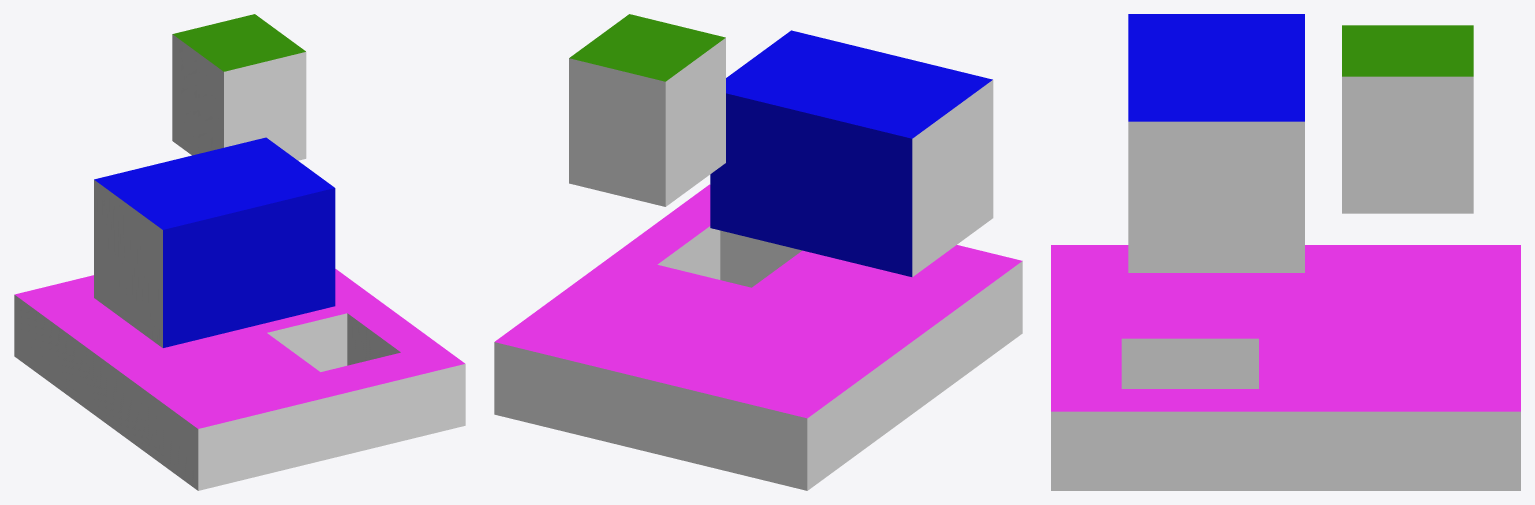
The picture shows the model from 3 angles, left to right: view 1: azimuth 30°, elevation 25°; view 2: azimuth 150°, elevation 25°; view 3: azimuth 270°, elevation 25°; orthographic projection. The views are drawn at different scales.
Visible parts, largest first — view 1: SketchUp (×7); view 2: SketchUp (×7); view 3: SketchUp (×7).
Boxes of the visible parts, left/top/right/bottom form: SketchUp (×7): left=14, top=14, right=465, bottom=490; SketchUp (×7): left=494, top=14, right=1022, bottom=490; SketchUp (×7): left=1051, top=14, right=1520, bottom=490.
Size of the model in its own units: 111 by 130 by 118.
